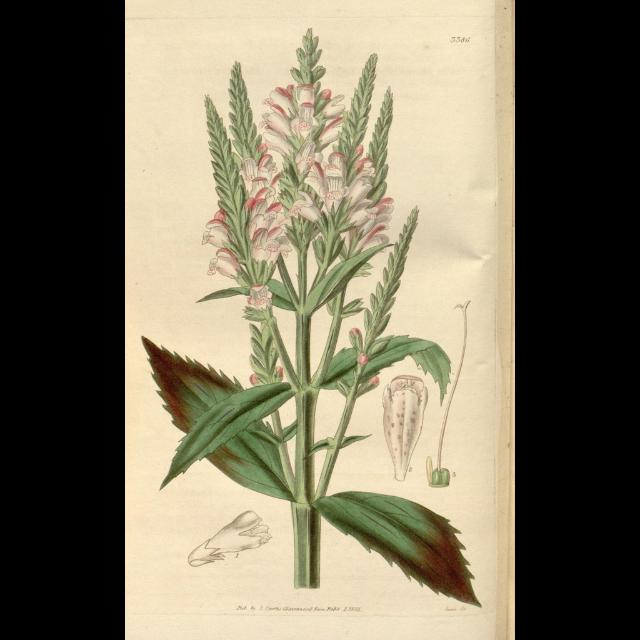Flower: (203, 82, 393, 278), (245, 279, 272, 309)
